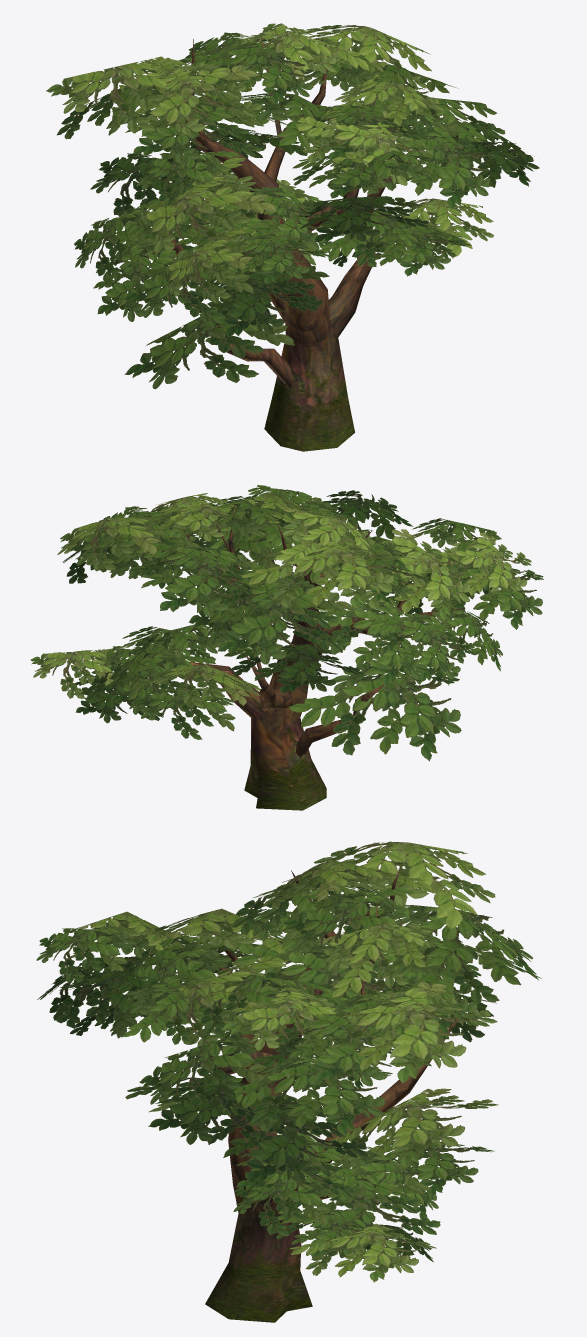
The picture shows the model from 3 angles, top to bottom: view 1: azimuth 30°, elevation 25°; view 2: azimuth 150°, elevation 25°; view 3: azimuth 270°, elevation 25°; orthographic projection. The views are drawn at different scales.
Parts seen in each view (by area): view 1: environment_Tree_red_002_b1; view 2: environment_Tree_red_002_b1; view 3: environment_Tree_red_002_b1.
Boxes of the visible parts, x1,y1,x2,y2 form: environment_Tree_red_002_b1: (46,23,539,451); environment_Tree_red_002_b1: (30,485,543,810); environment_Tree_red_002_b1: (36,841,541,1322).
Size of the model in its own units: 517 by 361 by 449.
